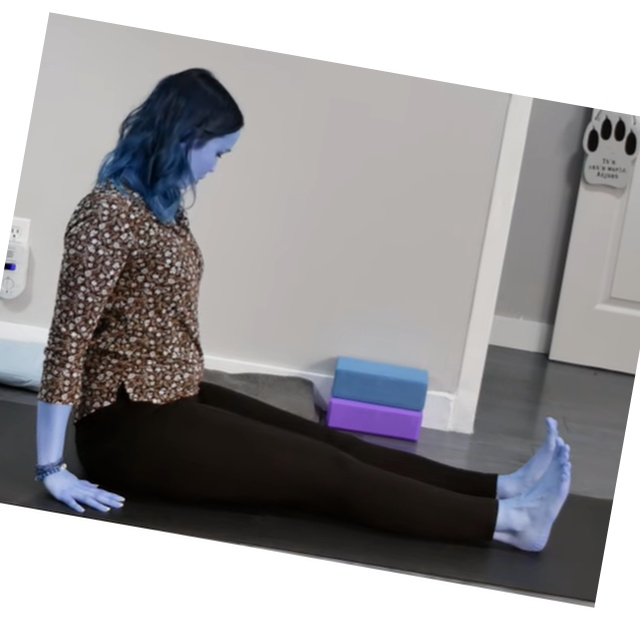Staff_Pose: (29, 64, 575, 552)
